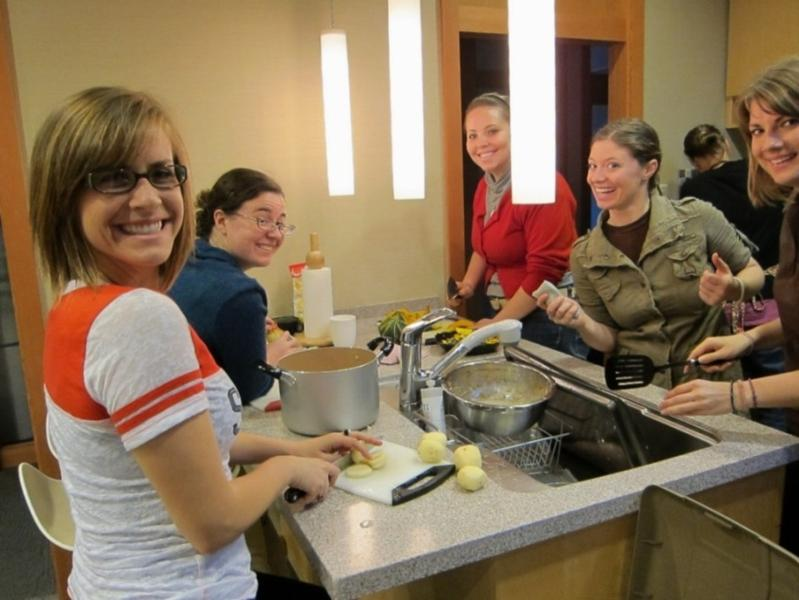person: (29, 85, 386, 600)
